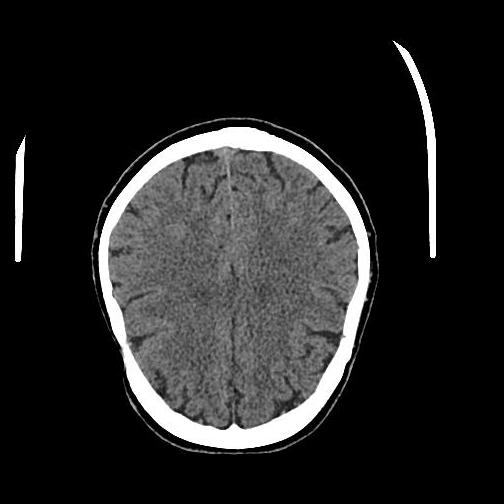Normal_Brain: (91, 115, 384, 463)
